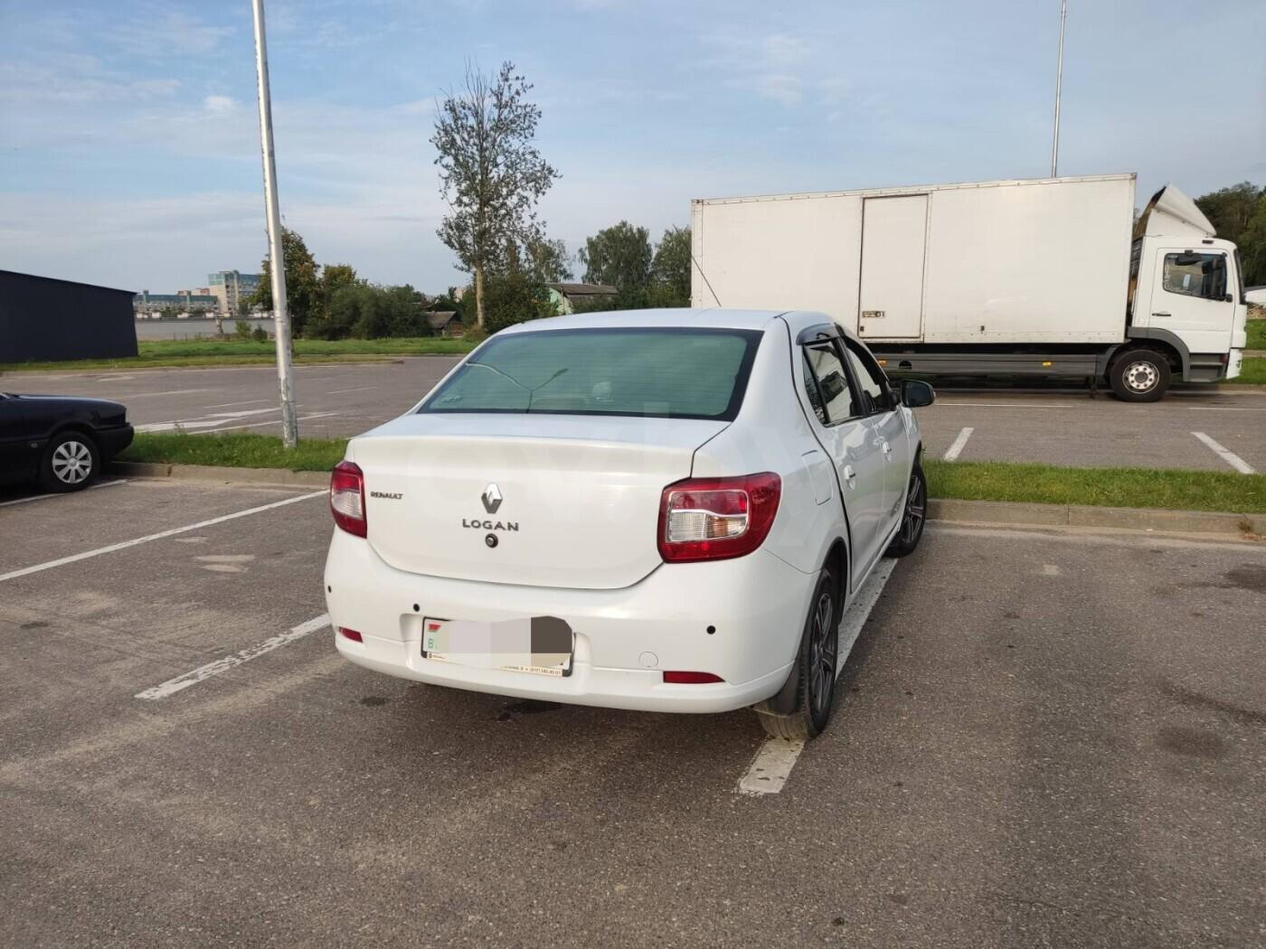Logan_2013-2018: (323, 298, 934, 749)
